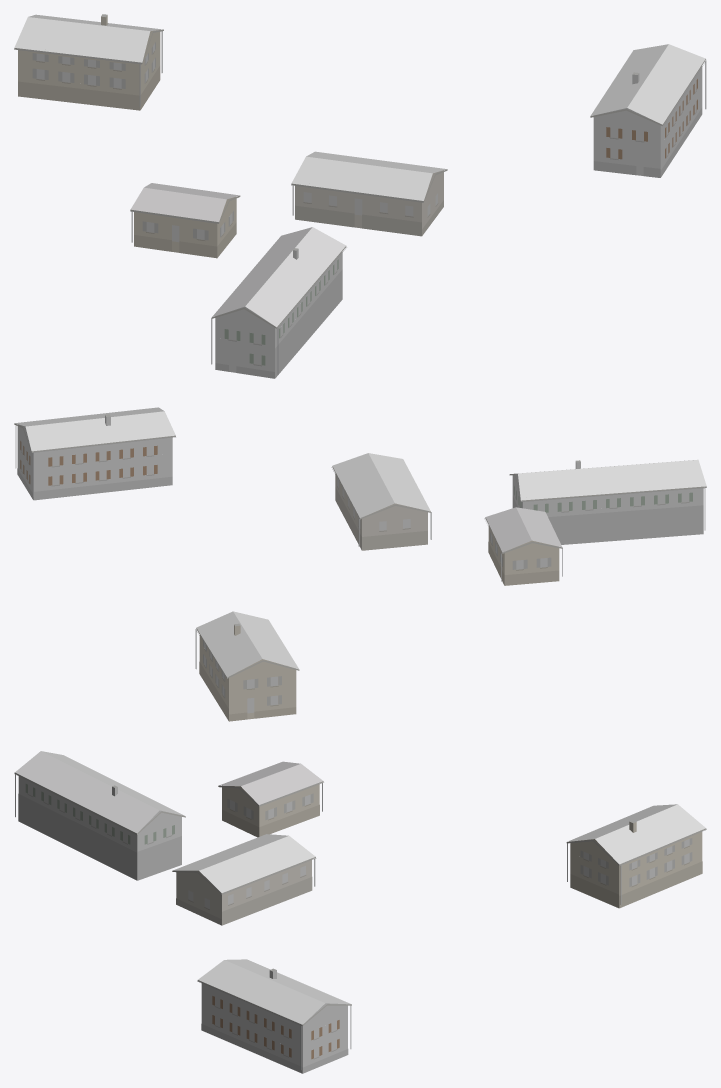
3 views of the same model, one above another, from view 1: azimuth 30°, elevation 25°; view 2: azimuth 150°, elevation 25°; view 3: azimuth 270°, elevation 25° (orthographic). The views are drawn at different scales.
Visible parts, largest first — view 1: bld; view 2: bld; view 3: bld.
Part boxes in pixels (box(x1,y1,x2,y2)): bld: box(14, 14, 706, 378); bld: box(14, 407, 706, 721); bld: box(14, 751, 706, 1073).
Size of the model in its own units: 86.92 by 10.9 by 90.57.
